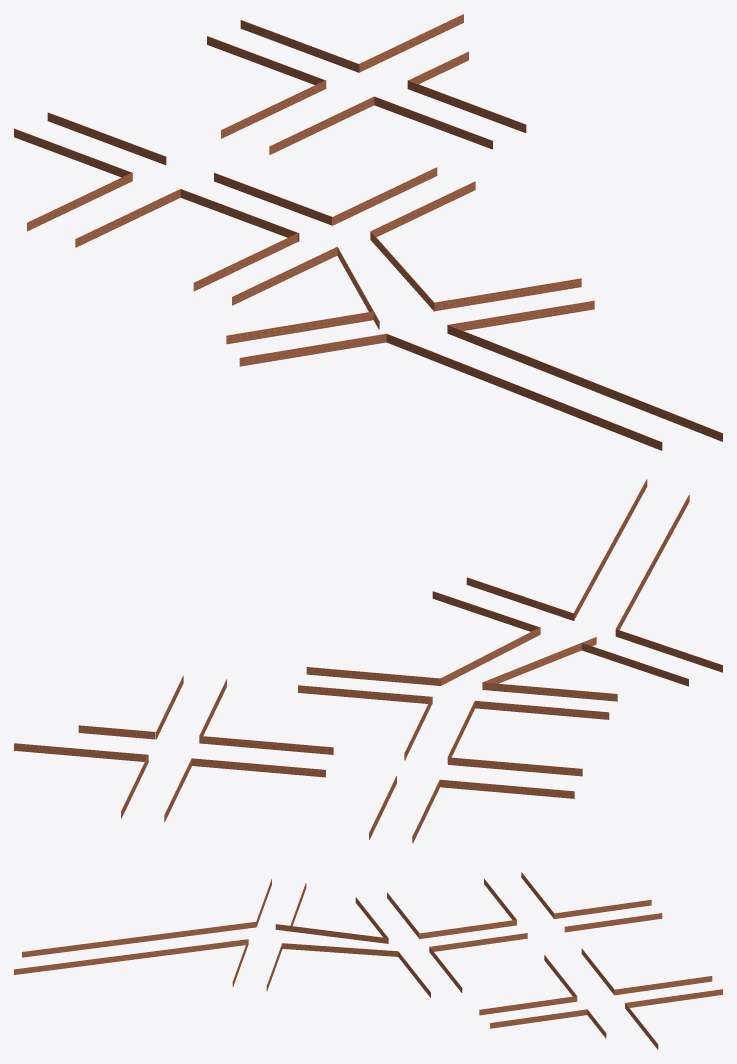
The model's file is wall_brickjs_event5_char1_v0.glb.
3 renders of one model, top to bottom at view 1: azimuth 30°, elevation 25°; view 2: azimuth 150°, elevation 25°; view 3: azimuth 270°, elevation 25°, orthographic. The views are drawn at different scales.
Parts seen in each view (by area): view 1: wall_bricks1_lateral.042, wall_bricks1_lateral.041, wall_bricks1_lateral.037, wall_bricks1_lateral.038, wall_bricks1_lateral.039, wall_bricks1_lateral.040, wall_bricks1_lateral.024, wall_bricks1_lateral.020, wall_bricks1_lateral.022, wall_bricks1_lateral.025, wall_bricks1_lateral.029, wall_bricks1_lateral.030 (+11 smaller); view 2: wall_bricks1_lateral.028, wall_bricks1_lateral.033, wall_bricks1_lateral.034, wall_bricks1_lateral.027, wall_bricks1_lateral.026, wall_bricks1_lateral.032, wall_bricks1_lateral.018, wall_bricks1_lateral.031, wall_bricks1_lateral, wall_bricks1_lateral.040, wall_bricks1_lateral.038, wall_bricks1_lateral.037 (+6 smaller); view 3: wall_bricks1_lateral.042, wall_bricks1_lateral.041, wall_bricks1_lateral.035, wall_bricks1_lateral.036, wall_bricks1_lateral.025, wall_bricks1_lateral.019, wall_bricks1_lateral.022, wall_bricks1_lateral.024, wall_bricks1_lateral.021, wall_bricks1_lateral.030, wall_bricks1_lateral.020, wall_bricks1_lateral.029.
Boxes of the visible parts, <box> form: wall_bricks1_lateral.042: <box>386,334,662,450</box>; wall_bricks1_lateral.041: <box>447,324,722,441</box>; wall_bricks1_lateral.037: <box>239,333,386,366</box>; wall_bricks1_lateral.038: <box>226,311,373,344</box>; wall_bricks1_lateral.039: <box>434,278,581,311</box>; wall_bricks1_lateral.040: <box>447,300,594,333</box>; wall_bricks1_lateral.024: <box>407,80,526,132</box>; wall_bricks1_lateral.020: <box>240,20,359,72</box>; wall_bricks1_lateral.022: <box>47,112,166,165</box>; wall_bricks1_lateral.025: <box>374,96,492,149</box>; wall_bricks1_lateral.029: <box>214,172,331,225</box>; wall_bricks1_lateral.030: <box>180,189,299,241</box>; wall_bricks1_lateral.028: <box>448,757,582,776</box>; wall_bricks1_lateral.033: <box>483,682,617,701</box>; wall_bricks1_lateral.034: <box>475,700,609,719</box>; wall_bricks1_lateral.027: <box>440,779,574,798</box>; wall_bricks1_lateral.026: <box>199,736,333,754</box>; wall_bricks1_lateral.032: <box>306,667,440,685</box>; wall_bricks1_lateral.018: <box>191,758,325,777</box>; wall_bricks1_lateral.031: <box>298,685,432,704</box>; wall_bricks1_lateral: <box>14,743,148,761</box>; wall_bricks1_lateral.040: <box>466,577,574,620</box>; wall_bricks1_lateral.038: <box>581,643,688,686</box>; wall_bricks1_lateral.037: <box>615,629,722,672</box>; wall_bricks1_lateral.042: <box>22,921,256,957</box>; wall_bricks1_lateral.041: <box>14,939,248,974</box>; wall_bricks1_lateral.035: <box>282,943,397,956</box>; wall_bricks1_lateral.036: <box>275,924,388,943</box>; wall_bricks1_lateral.025: <box>479,996,577,1015</box>; wall_bricks1_lateral.019: <box>614,976,712,995</box>; wall_bricks1_lateral.022: <box>564,913,662,932</box>; wall_bricks1_lateral.024: <box>490,1009,587,1028</box>; wall_bricks1_lateral.021: <box>554,899,651,919</box>; wall_bricks1_lateral.030: <box>419,919,516,939</box>; wall_bricks1_lateral.020: <box>625,989,722,1007</box>; wall_bricks1_lateral.029: <box>430,933,527,951</box>.
Bounding box in the file's own units: 332 × 5 × 578.
Materials: 1 (1 with a texture image).
